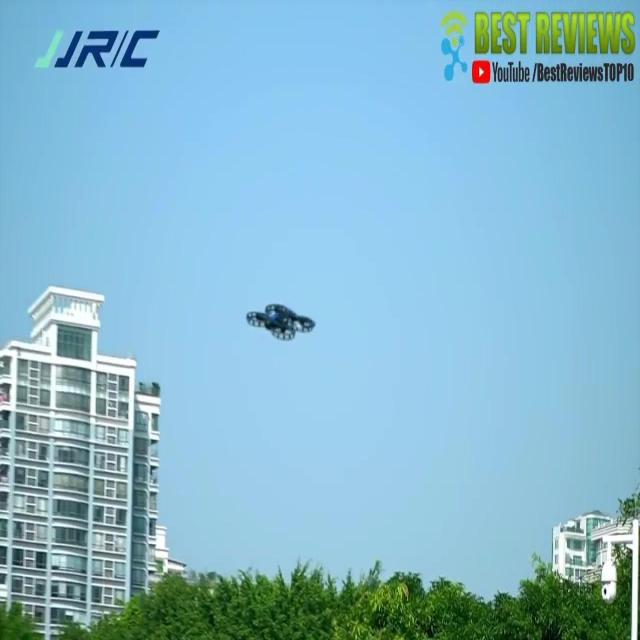drone: (244, 301, 320, 346)
